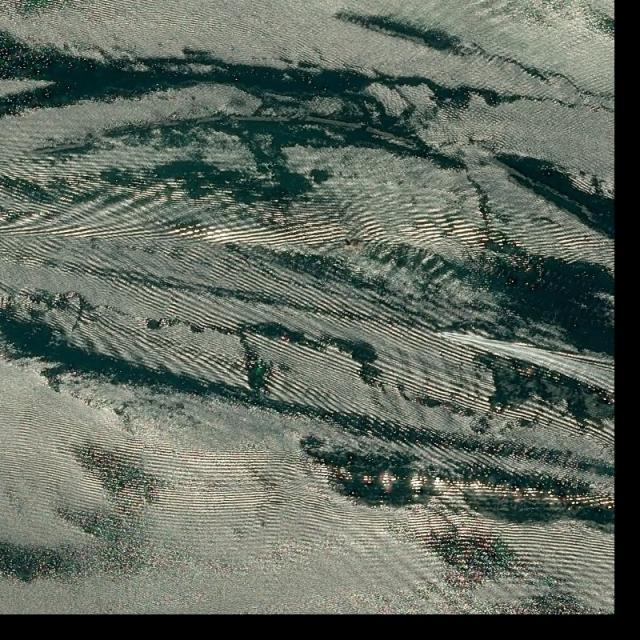ship: (435, 332, 446, 336)
